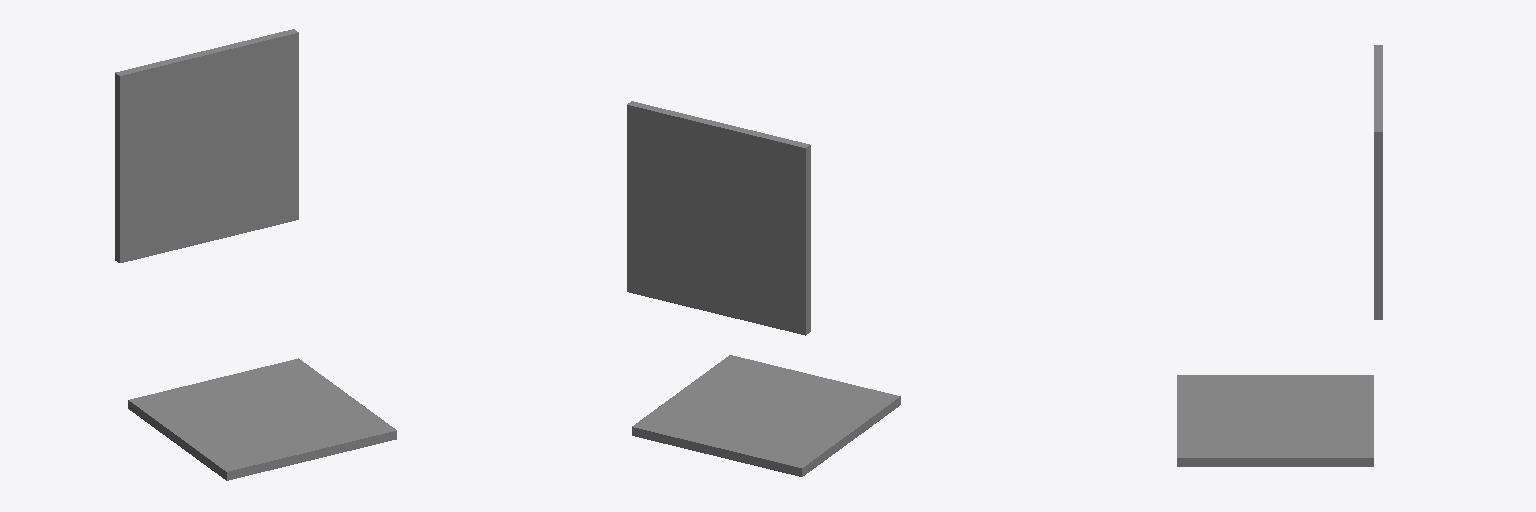
Rendered from room_low.obj.
3 renders of one model, left to right at view 1: azimuth 30°, elevation 25°; view 2: azimuth 150°, elevation 25°; view 3: azimuth 270°, elevation 25°, orthographic.
Parts seen in each view (by area): view 1: Object001; view 2: Object001; view 3: Object001.
Boxes of the visible parts, x1=… form: Object001: x1=115, y1=29, x2=396, y2=480; Object001: x1=627, y1=101, x2=900, y2=476; Object001: x1=1177, y1=45, x2=1382, y2=466.
Size of the model in its own units: 42 by 75.03 by 42.